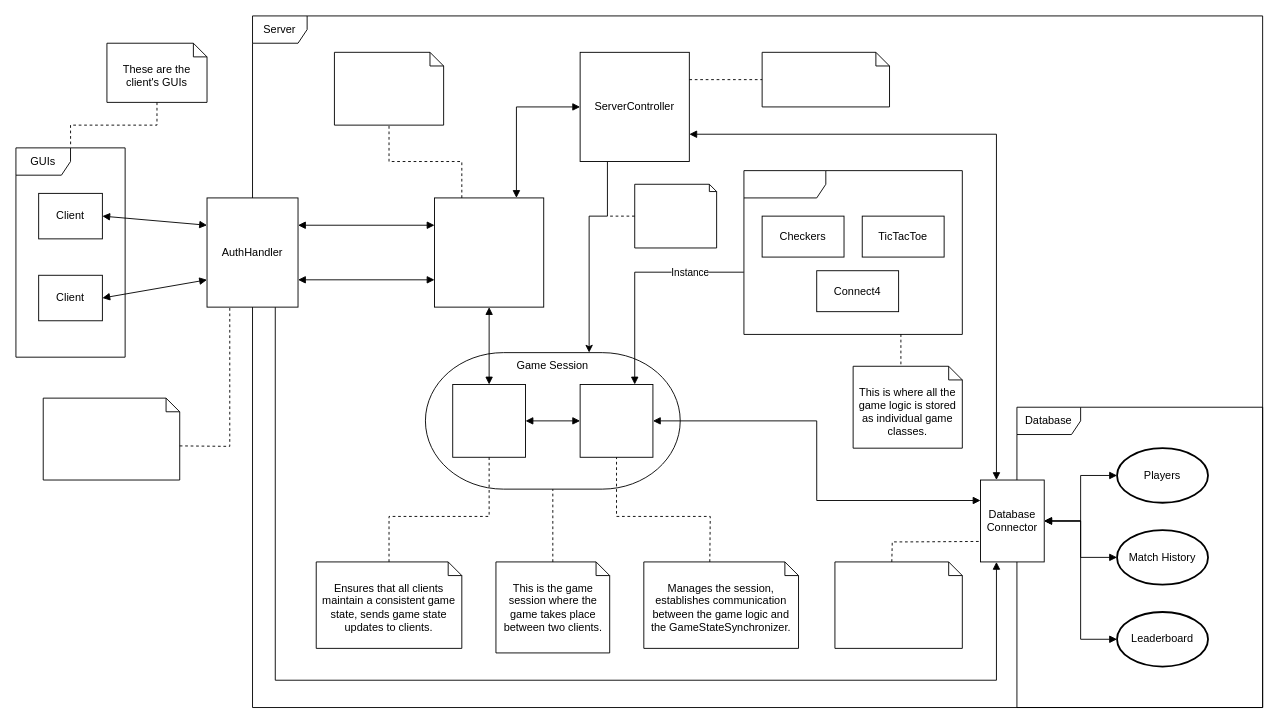
The diagram is 1279 pixels wide and 723 high, and some of its shapes have lost their labels. Here are the shapes that lost their labels. From the top down, the box of each, then its label:
(334, 51, 444, 125): Handles and routes all network traffic in the server
(761, 51, 890, 107): Handles all executive decisions for the server.
(634, 183, 717, 248): ServerController creates the game session
(434, 197, 544, 307): NetworkManager
(743, 170, 962, 334): Game Logic
(42, 397, 180, 480): Processes login/logout requests and maintains user sessions through the network
(452, 384, 526, 457): Game State Synchronizer
(579, 384, 653, 457): Game Session Manager
(834, 561, 962, 648): Handles the connection between the application and the PostgreSQL database
